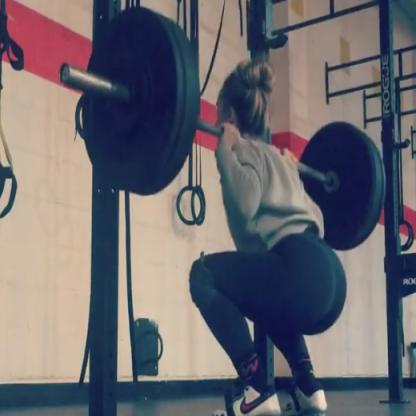Barbell: (53, 2, 208, 203)
